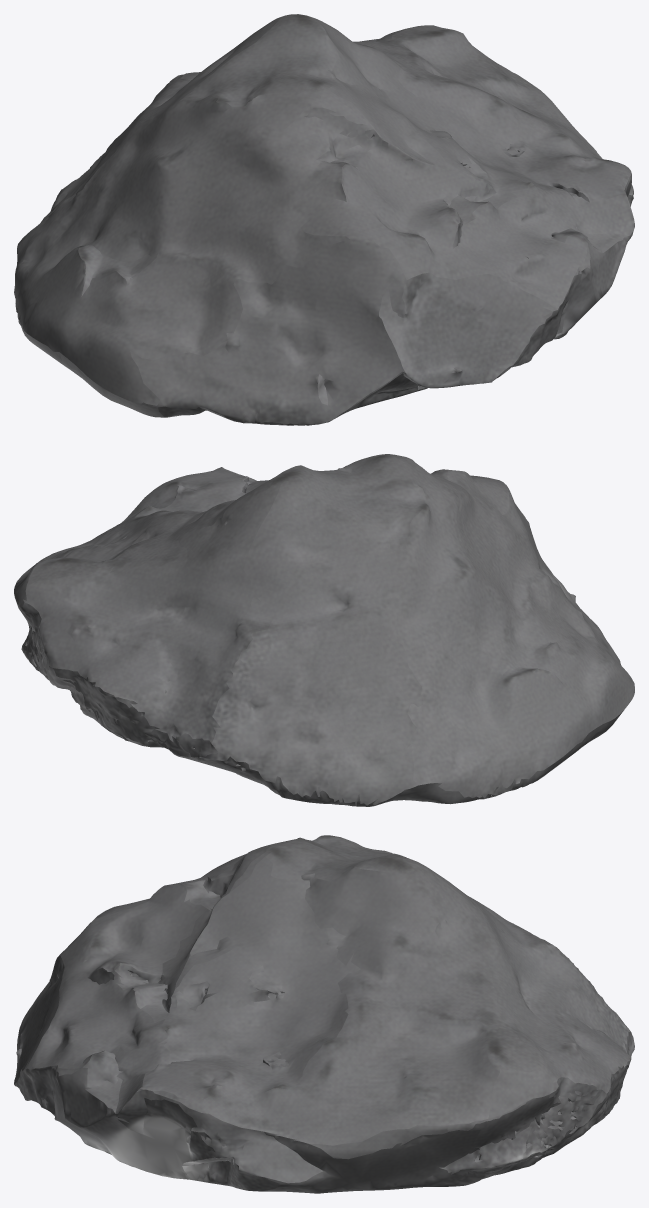
3 renders of one model, top to bottom at view 1: azimuth 30°, elevation 25°; view 2: azimuth 150°, elevation 25°; view 3: azimuth 270°, elevation 25°, orthographic. The views are drawn at different scales.
Visible parts, largest first — view 1: world; view 2: world; view 3: world.
Part boxes in pixels (x1,y1,x2,y2): world: (14,14,634,425); world: (14,454,634,806); world: (14,835,634,1193).
Size of the model in its own units: 1.2 by 0.5577 by 1.2.
1 material, 1 textured.
